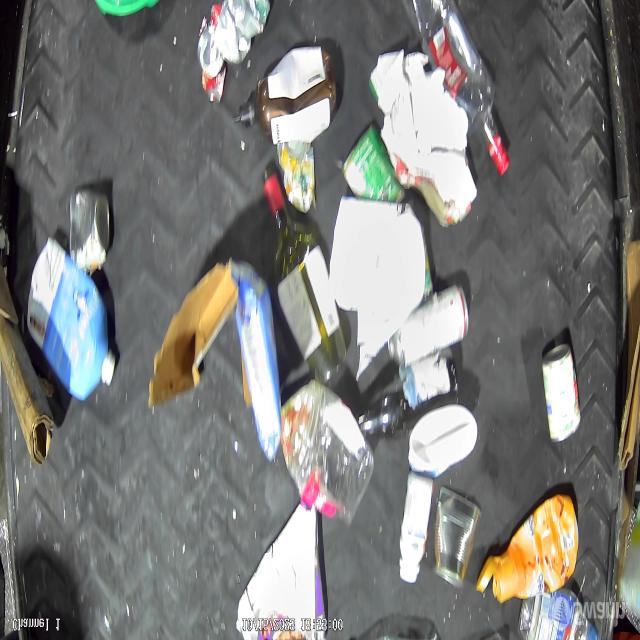can: (383, 284, 470, 366), (434, 484, 482, 591), (342, 124, 406, 203), (541, 343, 582, 442), (215, 0, 272, 66), (68, 190, 111, 268), (278, 142, 316, 214), (198, 30, 224, 78)
milk_jug: (408, 405, 478, 478)
non_white_jug: (27, 236, 117, 402), (477, 493, 580, 602)
plastic_bottle: (404, 0, 509, 177), (281, 380, 376, 525)
